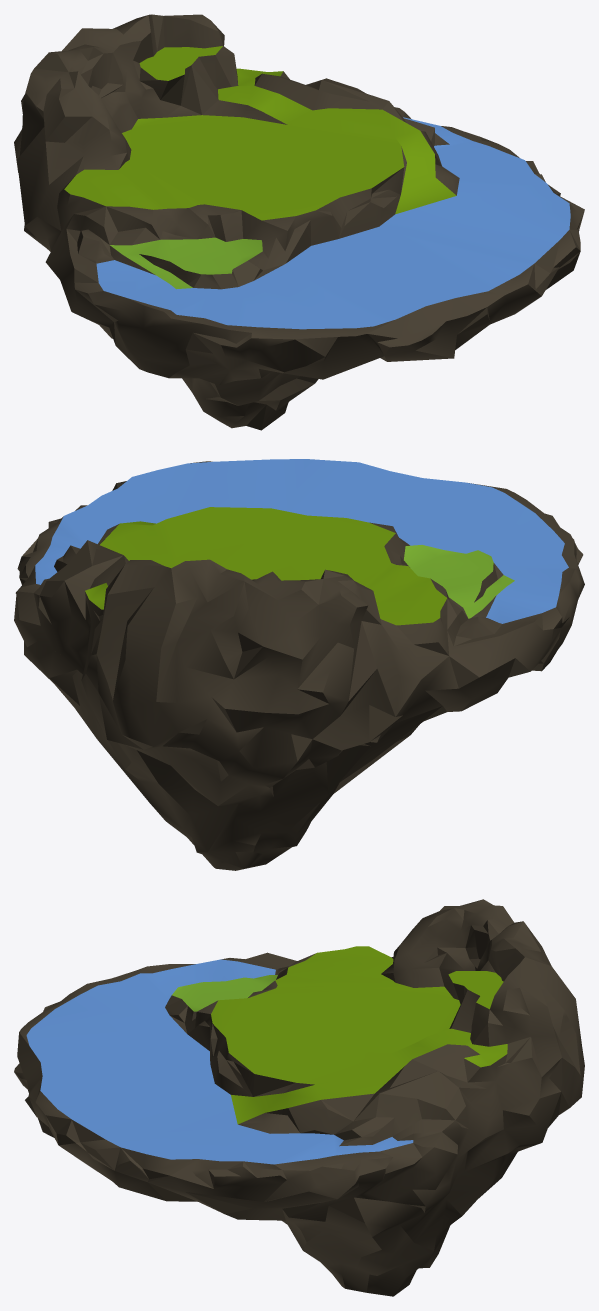
File: terrain.glb
3 views of the same model, one above another, from view 1: azimuth 30°, elevation 25°; view 2: azimuth 150°, elevation 25°; view 3: azimuth 270°, elevation 25° (orthographic). The views are drawn at different scales.
Parts seen in each view (by area): view 1: Object_2; view 2: Object_2; view 3: Object_2.
Part boxes in pixels (<box>): Object_2: <box>14,14,584,430</box>; Object_2: <box>14,459,584,870</box>; Object_2: <box>14,899,584,1296</box>.
Size of the model in its own units: 201 by 145 by 224.
Materials: 1 (1 with a texture image).
